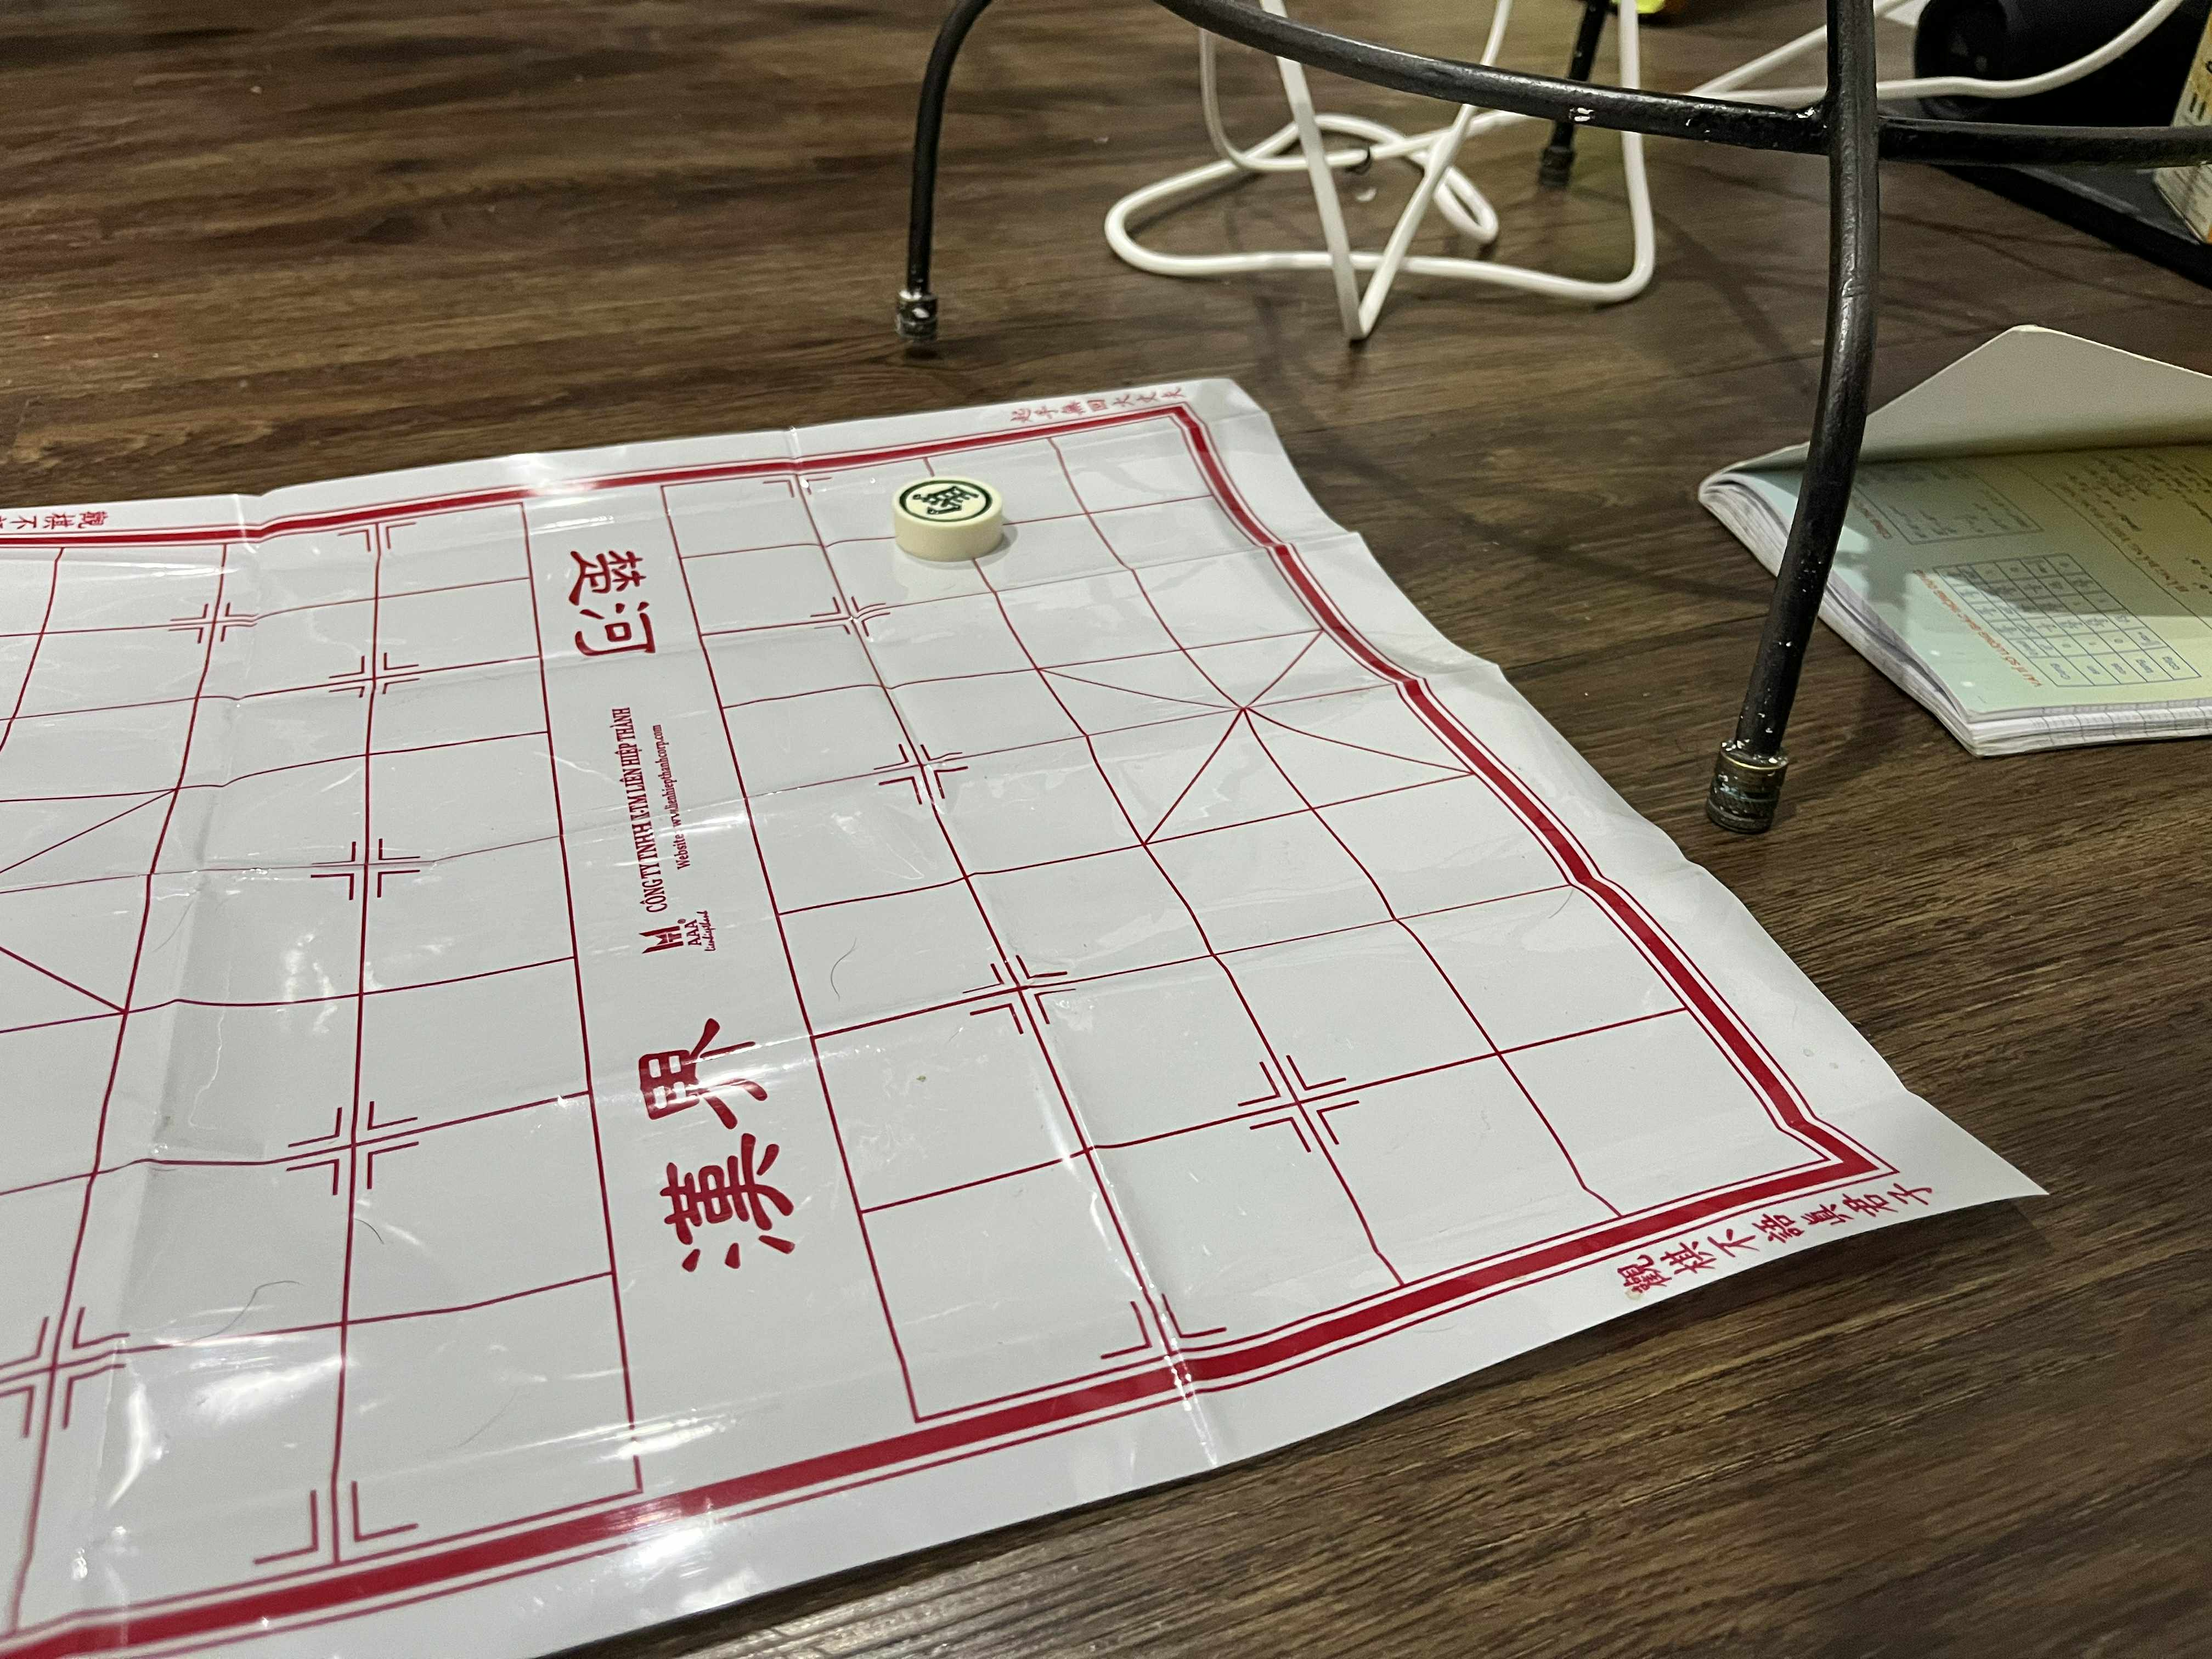black-horse: (890, 474, 1005, 528)
